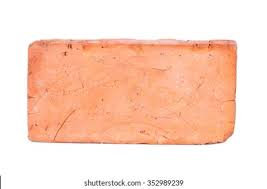brick: (29, 42, 234, 141)
